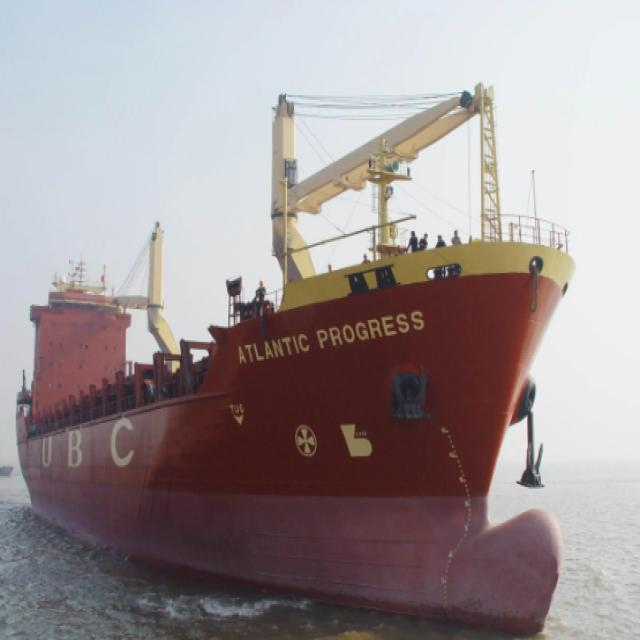cargoship: (17, 78, 585, 640)
